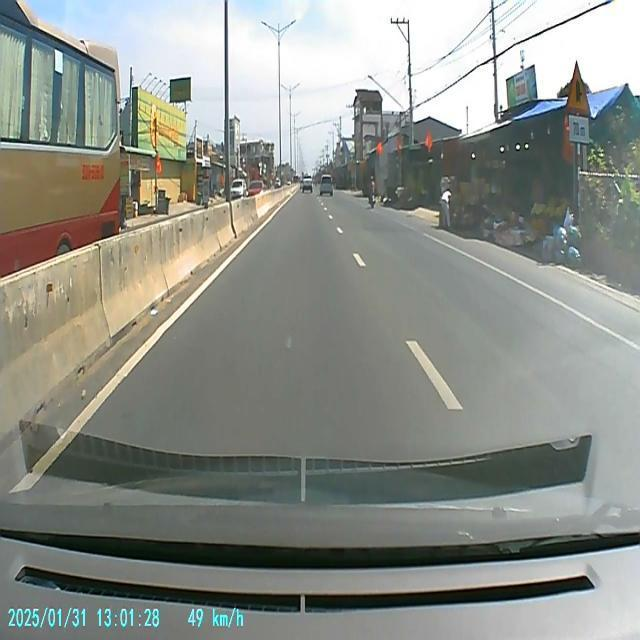207-giao-nhau-voi-duong-khong-uu-tien: (566, 61, 592, 118)
